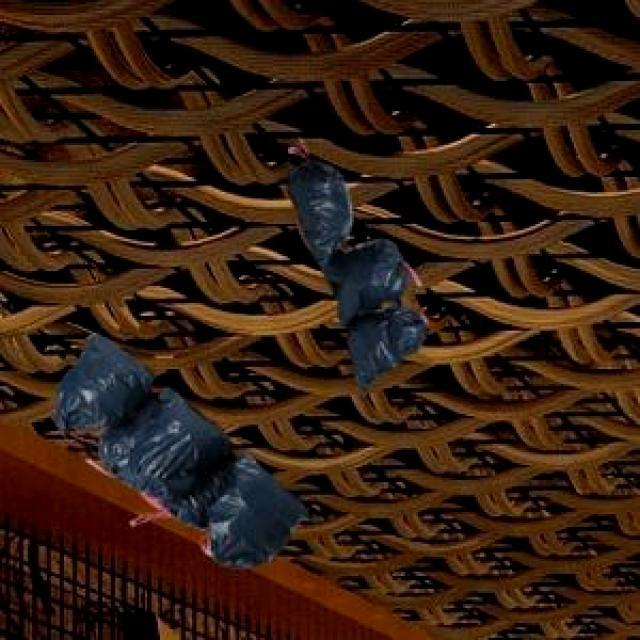Trashbag: (208, 468, 312, 570), (130, 396, 229, 492), (344, 303, 437, 398), (56, 338, 144, 428), (287, 158, 353, 256), (331, 242, 406, 315)
